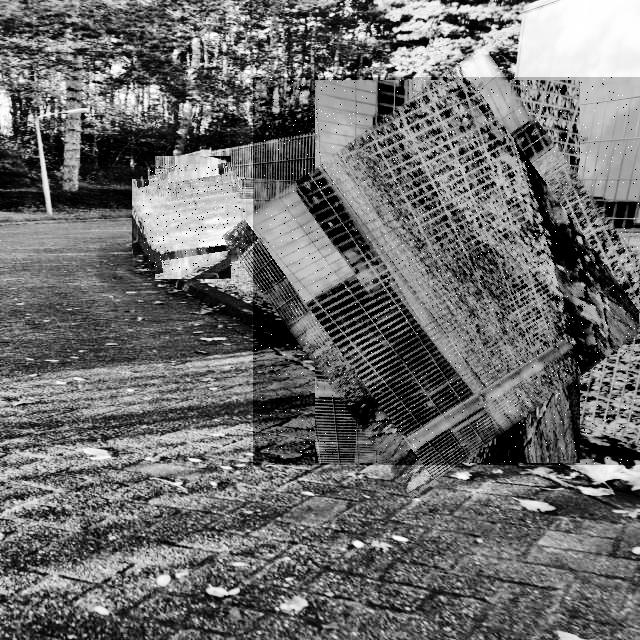fences: (253, 77, 640, 465), (140, 164, 246, 271)
